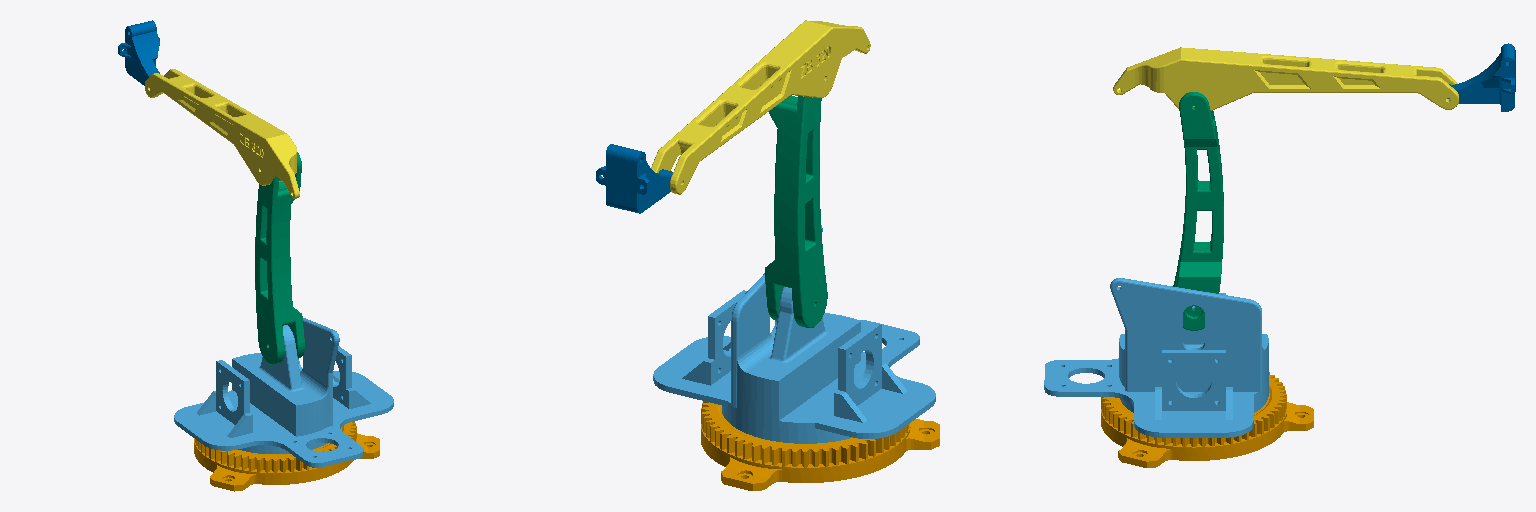
URDF robot description (zb320):
<robot name="zb320">
  <link name="base_link">
    <visual>
      <origin rpy="0 0 3.14" xyz="0 0 0"/>
      <geometry>
        <mesh filename="package://zb320_description/meshes/base_link.stl" scale="0.001 0.001 0.001"/>
      </geometry>
    </visual>
    <collision>
      <origin rpy="0 0 0" xyz="0 0 0"/>
      <geometry>
        <mesh filename="package://zb320_description/meshes/base_link.stl" scale="0.001 0.001 0.001"/>
      </geometry>
    </collision>
  </link>

  <link name="link_1_1">
    <visual>
      <origin rpy="0 0 3.14" xyz="-0.0 -0.0 -0.02"/>
      <geometry>
        <mesh filename="package://zb320_description/meshes/link_1_1.stl" scale="0.001 0.001 0.001"/>
      </geometry>
    </visual>
    <collision>
      <origin rpy="0 0 0" xyz="-0.0 -0.0 -0.02"/>
      <geometry>
        <mesh filename="package://zb320_description/meshes/link_1_1.stl" scale="0.001 0.001 0.001"/>
      </geometry>
    </collision>
  </link>

  <link name="link_2_1">
    <visual>
      <origin rpy="0 0 3.14" xyz="-0.0 -0.0 -0.09"/>
      <geometry>
        <mesh filename="package://zb320_description/meshes/link_2_1.stl" scale="0.001 0.001 0.001"/>
      </geometry>
    </visual>
    <collision>
      <origin rpy="0 0 0" xyz="-0.0 -0.0 -0.09"/>
      <geometry>
        <mesh filename="package://zb320_description/meshes/link_2_1.stl" scale="0.001 0.001 0.001"/>
      </geometry>
    </collision>
  </link>

  <link name="link_3_1">
    <visual>
      <origin rpy="0 0 3.14" xyz="0.0 0.0 -0.24"/>
      <geometry>
        <mesh filename="package://zb320_description/meshes/link_3_1.stl" scale="0.001 0.001 0.001"/>
      </geometry>
    </visual>
    <collision>
      <origin rpy="0 0 0" xyz="0.0 0.0 -0.24"/>
      <geometry>
        <mesh filename="package://zb320_description/meshes/link_3_1.stl" scale="0.001 0.001 0.001"/>
      </geometry>
    </collision>
  </link>

  <link name="link_4_1">
    <visual>
      <origin rpy="0 0 3.14" xyz="-0.0 -0.17 -0.24"/>
      <geometry>
        <mesh filename="package://zb320_description/meshes/link_4_1.stl" scale="0.001 0.001 0.001"/>
      </geometry>
    </visual>
    <collision>
      <origin rpy="0 0 0" xyz="-0.0 -0.17 -0.24"/>
      <geometry>
        <mesh filename="package://zb320_description/meshes/link_4_1.stl" scale="0.001 0.001 0.001"/>
      </geometry>
    </collision>
  </link>

  <joint name="Rev5" type="continuous">
    <origin rpy="0 0 0" xyz="0.0 0.0 0.02"/>
    <parent link="base_link"/>
    <child link="link_1_1"/>
    <axis xyz="0.0 0.0 1.0"/>
  </joint>

  <joint name="Rev6" type="continuous">
    <origin rpy="0 0 0" xyz="0.0 0.0 0.07"/>
    <parent link="link_1_1"/>
    <child link="link_2_1"/>
    <axis xyz="1.0 0.0 0.0"/>
  </joint>

  <joint name="Rev7" type="continuous">
    <origin rpy="0 0 0" xyz="0.0 0.0 0.15"/>
    <parent link="link_2_1"/>
    <child link="link_3_1"/>
    <axis xyz="1.0 0.0 0.0"/>
  </joint>

  <joint name="Rev8" type="continuous">
    <origin rpy="0 0 0" xyz="0.0 0.17 0.0"/>
    <parent link="link_3_1"/>
    <child link="link_4_1"/>
    <axis xyz="1.0 0.0 0.0"/>
  </joint>
</robot>

--- What the picture shows (computed from the rendered views, not written in the file) ---
Views: 3 orthographic renders of the robot side by side, from view 1: azimuth 30°, elevation 25°; view 2: azimuth 150°, elevation 25°; view 3: azimuth 270°, elevation 25°.
Robot: zb320 — 5 links, 4 joints (4 continuous); root link base_link; default pose: all joints at 0.
Links seen in each view (by area): view 1: link_1_1, link_2_1, link_3_1, base_link, link_4_1; view 2: link_1_1, link_3_1, link_2_1, base_link, link_4_1; view 3: link_1_1, link_3_1, link_2_1, base_link, link_4_1.
Boxes of the visible links, x1,y1,x2,y2 form: link_1_1: (174,318,393,467); link_2_1: (255,152,304,364); link_3_1: (145,69,299,198); base_link: (194,421,379,491); link_4_1: (118,20,159,85); link_1_1: (653,225,935,443); link_3_1: (651,20,870,194); link_2_1: (765,95,827,327); base_link: (701,401,939,490); link_4_1: (596,144,672,213); link_1_1: (1044,278,1268,437); link_3_1: (1113,47,1458,110); link_2_1: (1173,92,1223,330); base_link: (1101,372,1313,467); link_4_1: (1447,43,1515,111).
Bounding box of the posed robot: 0.1651 × 0.315 × 0.275 m (x, y, z).
5 mesh visuals loaded from 5 distinct referenced files (5 binary STL).